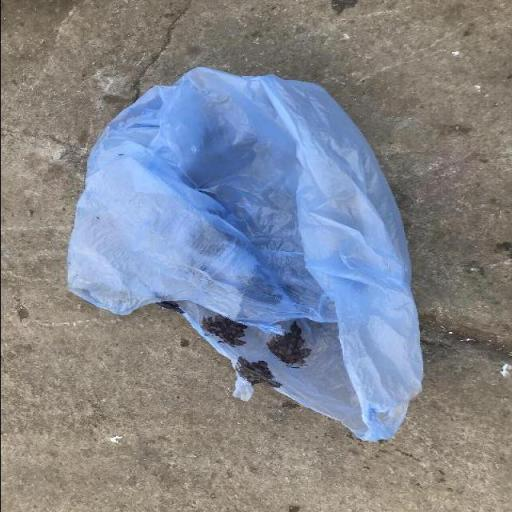plastic-bag: (62, 62, 426, 444)
